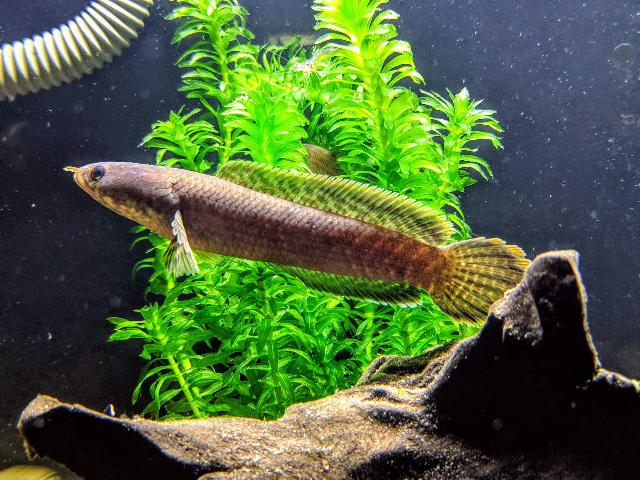Mulut: (55, 158, 105, 208)
Sirip Anal: (249, 270, 435, 322)
Sirip Dada: (152, 206, 218, 288)
Sirip Ekor: (434, 235, 530, 330)
Sirip Punggung: (214, 149, 464, 245)
